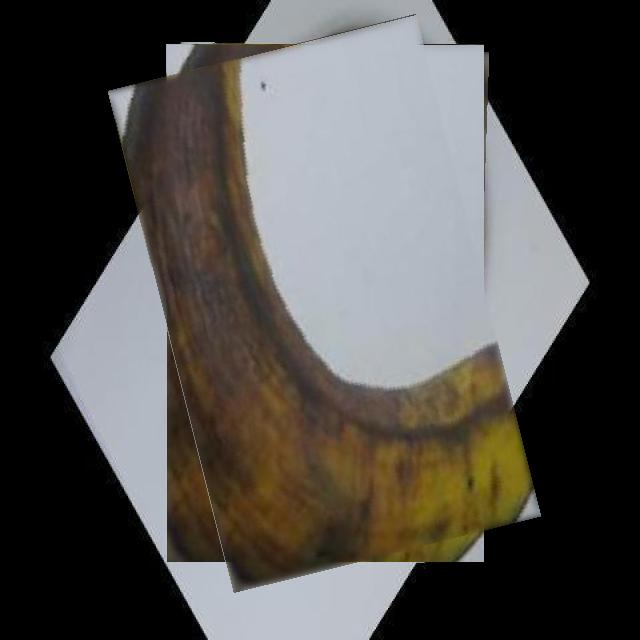Execivamente Madura: (137, 29, 513, 578)
